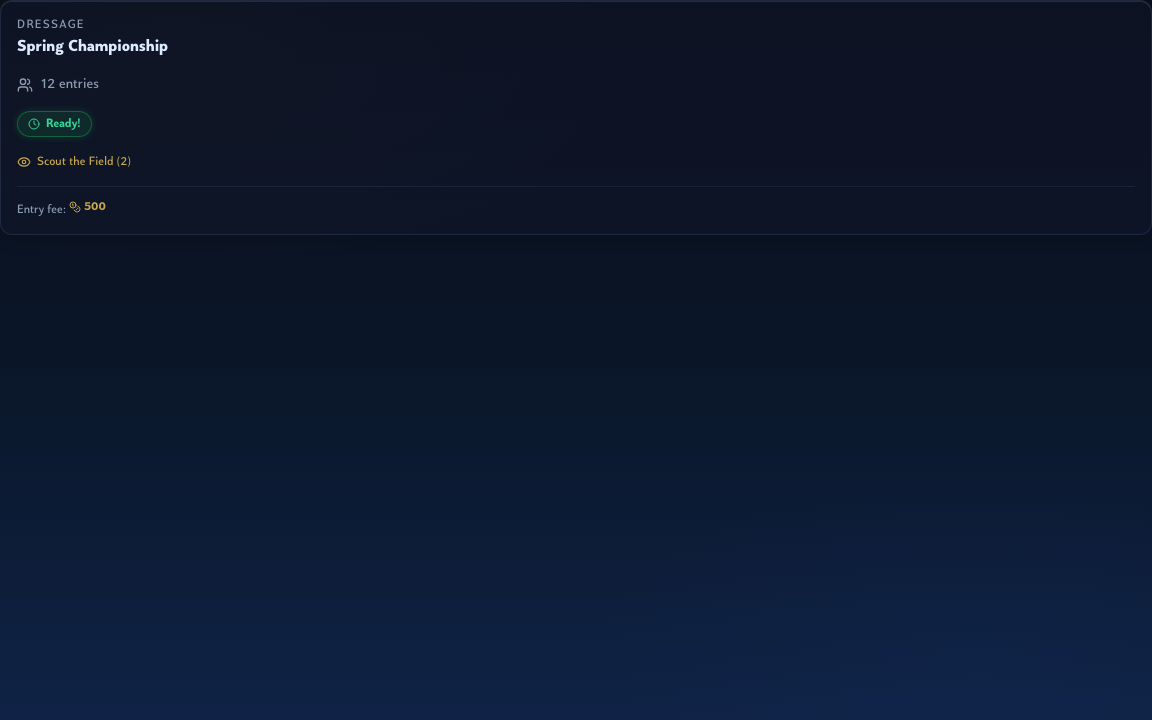
CompetitionFieldPreview › Scout the Field › shows aria-expanded attribute on scout button
Step 1. Click the button "Scout the Field (2)" → coordinates (74, 162), box [17,154,131,170]
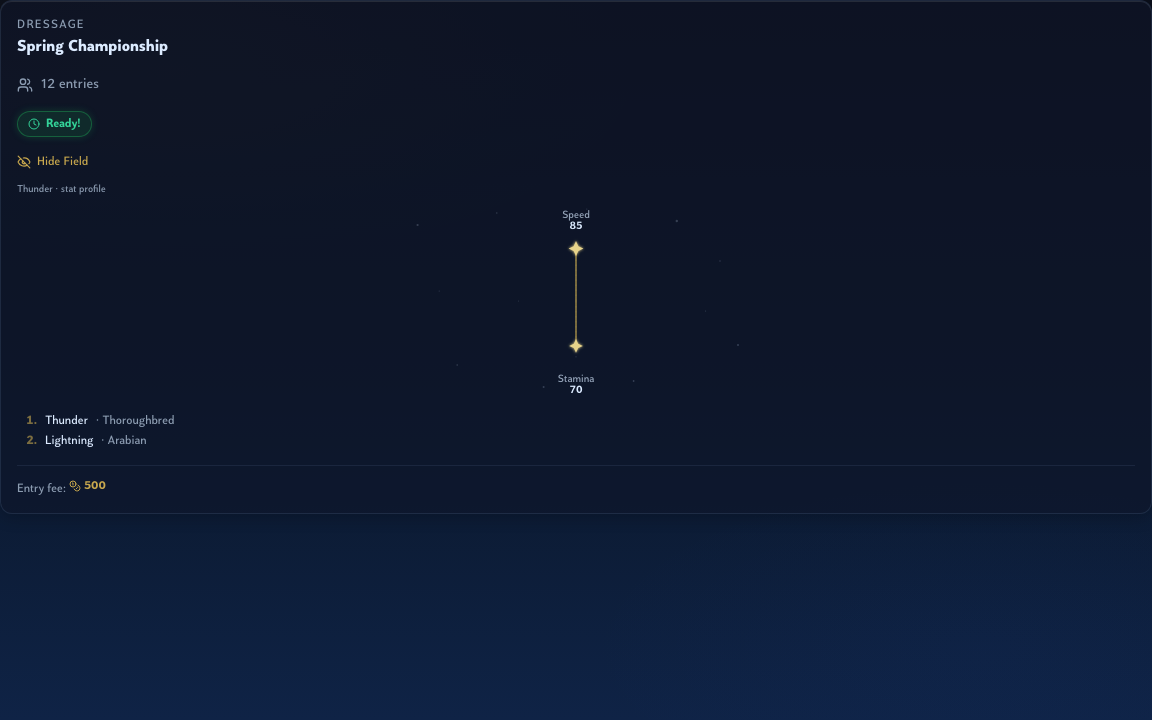
Check: the button "Scout the Field" is expanded, box [17,154,88,170]
